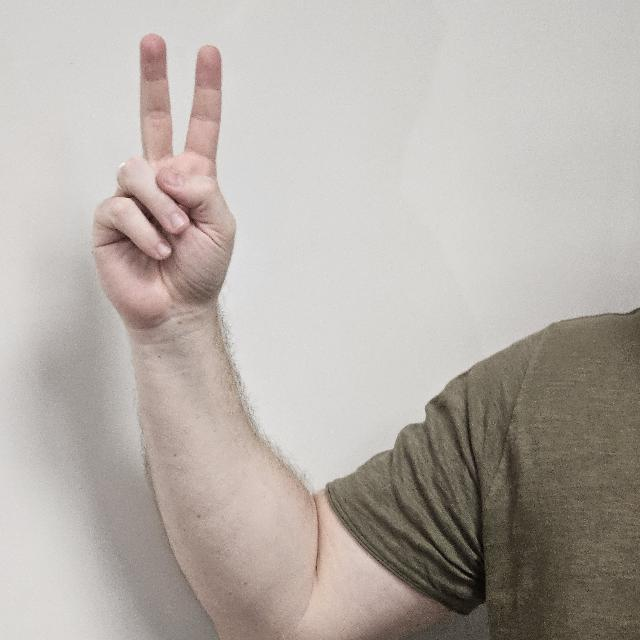Triangulo: (82, 33, 254, 370)
